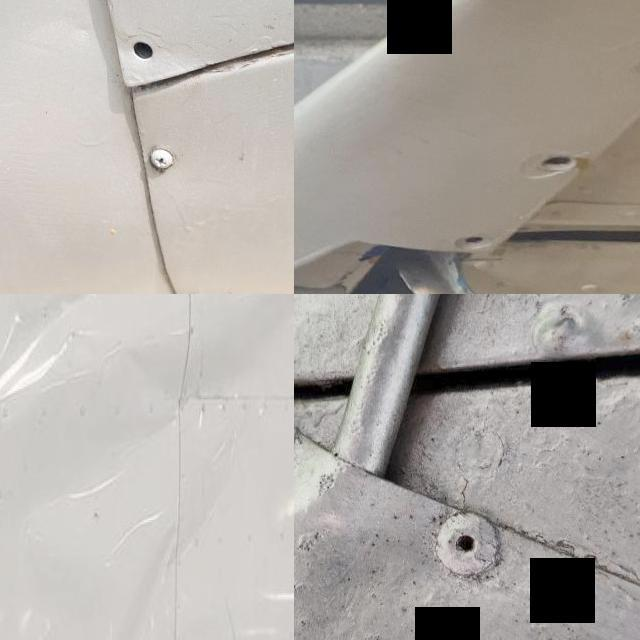Crack: (294, 410, 322, 522)
Dent: (0, 294, 294, 527), (114, 489, 223, 640), (0, 294, 100, 391)
Missing_Fastener: (106, 16, 180, 94), (522, 152, 579, 183), (451, 229, 499, 257), (623, 52, 640, 94)
